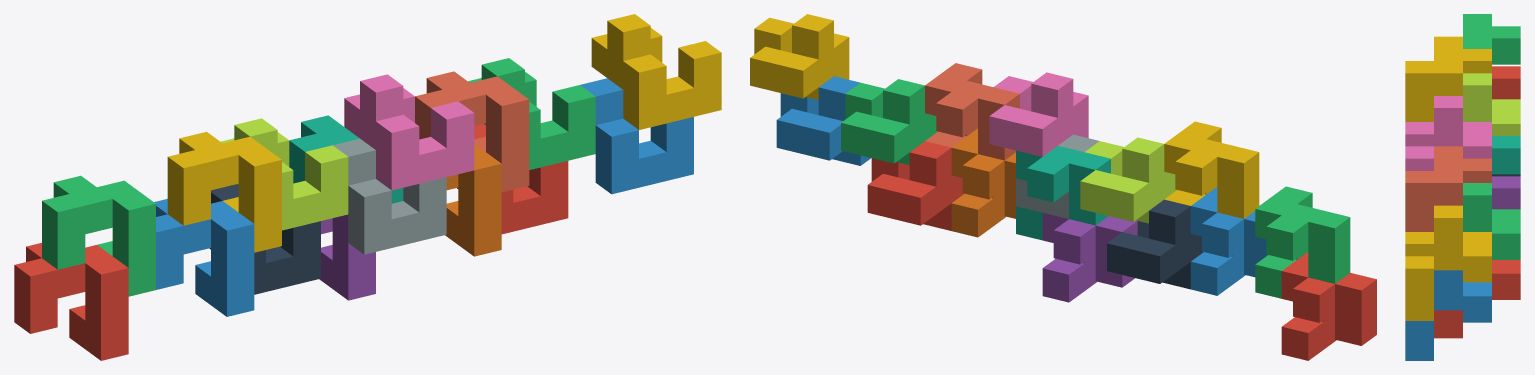
Rendered from tiling.obj.
3 renders of one model, left to right at view 1: azimuth 30°, elevation 25°; view 2: azimuth 150°, elevation 25°; view 3: azimuth 270°, elevation 25°, orthographic. The views are drawn at different scales.
Visible parts, largest first — view 1: copy_2_domain_8, copy_2_domain_4, copy_1_domain_1, copy_1_domain_4, copy_1_domain_3, copy_1_domain_2, copy_2_domain_6, copy_2_domain_2, copy_1_domain_8, copy_2_domain_7, copy_2_domain_3, copy_1_domain_6 (+4 smaller); view 2: copy_1_domain_3, copy_1_domain_1, copy_2_domain_8, copy_1_domain_4, copy_2_domain_7, copy_2_domain_4, copy_2_domain_5, copy_2_domain_3, copy_2_domain_1, copy_1_domain_5, copy_1_domain_8, copy_1_domain_2 (+4 smaller); view 3: copy_2_domain_8, copy_1_domain_4, copy_1_domain_8, copy_2_domain_4, copy_2_domain_6, copy_2_domain_7, copy_2_domain_3, copy_1_domain_3, copy_2_domain_5, copy_1_domain_7, copy_1_domain_1, copy_1_domain_5.
Boxes of the visible parts, left/top/right/bottom form: copy_2_domain_8: left=591, top=14, right=721, bottom=129; copy_2_domain_4: left=344, top=74, right=474, bottom=190; copy_1_domain_1: left=14, top=243, right=128, bottom=360; copy_1_domain_4: left=167, top=131, right=281, bottom=252; copy_1_domain_3: left=42, top=175, right=155, bottom=296; copy_1_domain_2: left=154, top=199, right=254, bottom=316; copy_2_domain_6: left=580, top=78, right=693, bottom=194; copy_2_domain_2: left=333, top=138, right=446, bottom=254; copy_1_domain_8: left=415, top=71, right=529, bottom=192; copy_2_domain_7: left=468, top=58, right=595, bottom=169; copy_2_domain_3: left=221, top=118, right=348, bottom=230; copy_1_domain_6: left=445, top=144, right=501, bottom=256; copy_1_domain_3: left=1255, top=186, right=1350, bottom=298; copy_1_domain_1: left=1281, top=252, right=1376, bottom=360; copy_2_domain_8: left=750, top=14, right=849, bottom=99; copy_1_domain_4: left=1164, top=121, right=1259, bottom=218; copy_2_domain_7: left=841, top=79, right=937, bottom=164; copy_2_domain_4: left=989, top=72, right=1088, bottom=156; copy_2_domain_5: left=867, top=141, right=963, bottom=230; copy_2_domain_3: left=1080, top=137, right=1176, bottom=223; copy_2_domain_1: left=1107, top=199, right=1203, bottom=289; copy_1_domain_5: left=1042, top=213, right=1137, bottom=302; copy_1_domain_8: left=925, top=63, right=1019, bottom=160; copy_1_domain_2: left=1190, top=187, right=1267, bottom=295; copy_2_domain_8: left=1405, top=205, right=1491, bottom=320; copy_1_domain_4: left=1405, top=36, right=1491, bottom=121; copy_1_domain_8: left=1405, top=146, right=1491, bottom=231; copy_2_domain_4: left=1405, top=96, right=1491, bottom=170; copy_2_domain_6: left=1405, top=270, right=1491, bottom=360; copy_2_domain_7: left=1463, top=183, right=1520, bottom=259; copy_2_domain_3: left=1463, top=73, right=1520, bottom=135; copy_1_domain_3: left=1463, top=14, right=1520, bottom=64; copy_2_domain_5: left=1434, top=260, right=1520, bottom=338; copy_1_domain_7: left=1492, top=136, right=1520, bottom=174; copy_1_domain_1: left=1492, top=66, right=1520, bottom=99; copy_1_domain_5: left=1492, top=176, right=1520, bottom=209.
Bounding box in the file's own units: 24 × 7 × 4.
